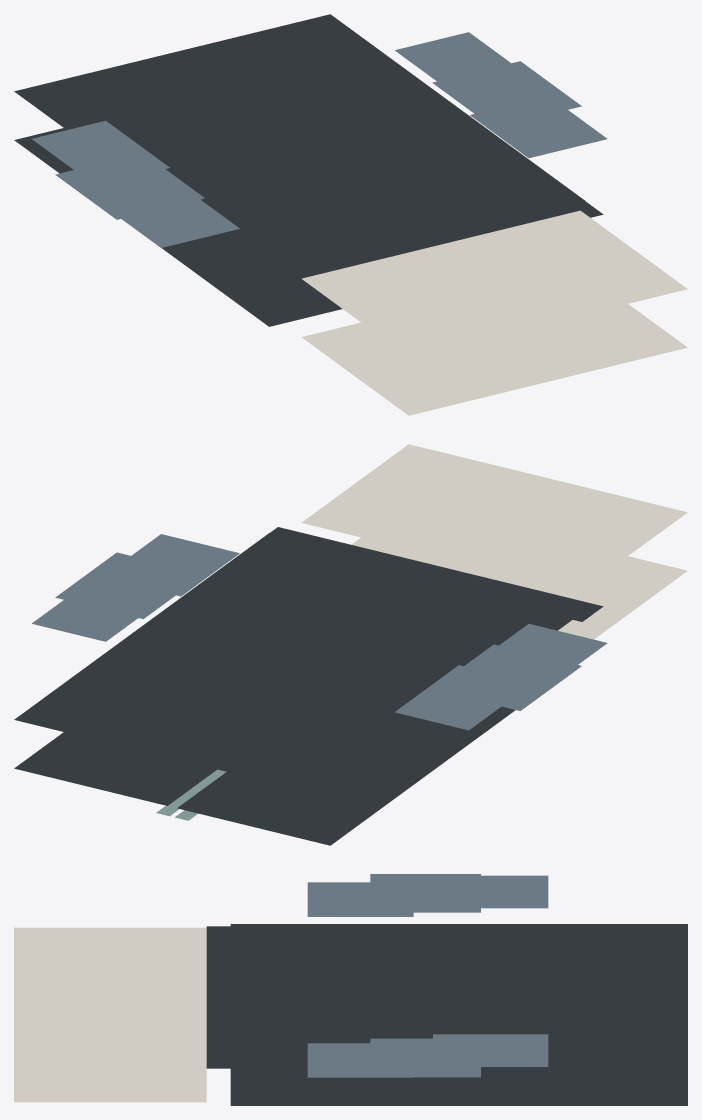
The model's file is sidelock-column-set-prototype.obj.
The picture shows the model from 3 angles, top to bottom: view 1: azimuth 30°, elevation 25°; view 2: azimuth 150°, elevation 25°; view 3: azimuth 270°, elevation 25°; orthographic projection. The views are drawn at different scales.
Visible parts, largest first — view 1: skirt_front, top_front, top_back, skirt_back_L, side_lock_L_C, side_lock_R_C, side_lock_L_B, side_lock_R_B, waistband, side_lock_R_A, side_lock_L_A; view 2: skirt_front, top_front, skirt_back_L, skirt_back_R, top_back, side_lock_L_C, side_lock_R_C, side_lock_L_B, side_lock_R_B, waistband, side_lock_R_A, side_lock_L_A (+1 smaller); view 3: skirt_front, top_front, skirt_back_R, top_back, side_lock_L_C, side_lock_R_C, waistband, side_lock_R_B, side_lock_L_B, side_lock_L_A, side_lock_R_A.
Boxes of the visible parts, x1,y1,x2,y2 form: skirt_front: (14,14,584,278); top_front: (302,210,687,357); top_back: (301,304,687,415); skirt_back_L: (14,128,341,326); side_lock_L_C: (32,120,169,185); side_lock_R_C: (395,32,532,97); side_lock_L_B: (55,169,204,219); side_lock_R_B: (432,61,581,127); waistband: (257,201,603,293); side_lock_R_A: (470,110,607,158); side_lock_L_A: (121,199,239,247); skirt_front: (14,533,585,796); top_front: (301,444,687,590); skirt_back_L: (177,706,515,845); skirt_back_R: (14,732,216,805); top_back: (351,537,687,639); side_lock_L_C: (395,665,532,730); side_lock_R_C: (32,576,169,641); side_lock_L_B: (464,644,581,710); side_lock_R_B: (55,552,204,618); waistband: (270,527,603,621); side_lock_R_A: (131,534,239,596); side_lock_L_A: (499,624,607,664); skirt_front: (230,924,687,1062); top_front: (14,927,206,1049); skirt_back_R: (230,1062,687,1105); top_back: (14,1050,206,1102); side_lock_L_C: (433,875,548,908); side_lock_R_C: (433,1034,548,1066); waistband: (206,926,244,1068); side_lock_R_B: (370,1038,480,1077); side_lock_L_B: (370,874,480,912); side_lock_L_A: (307,882,413,916); side_lock_R_A: (307,1043,413,1077).
Bounding box in the file's own units: 1 × 0.17 × 1.4.
